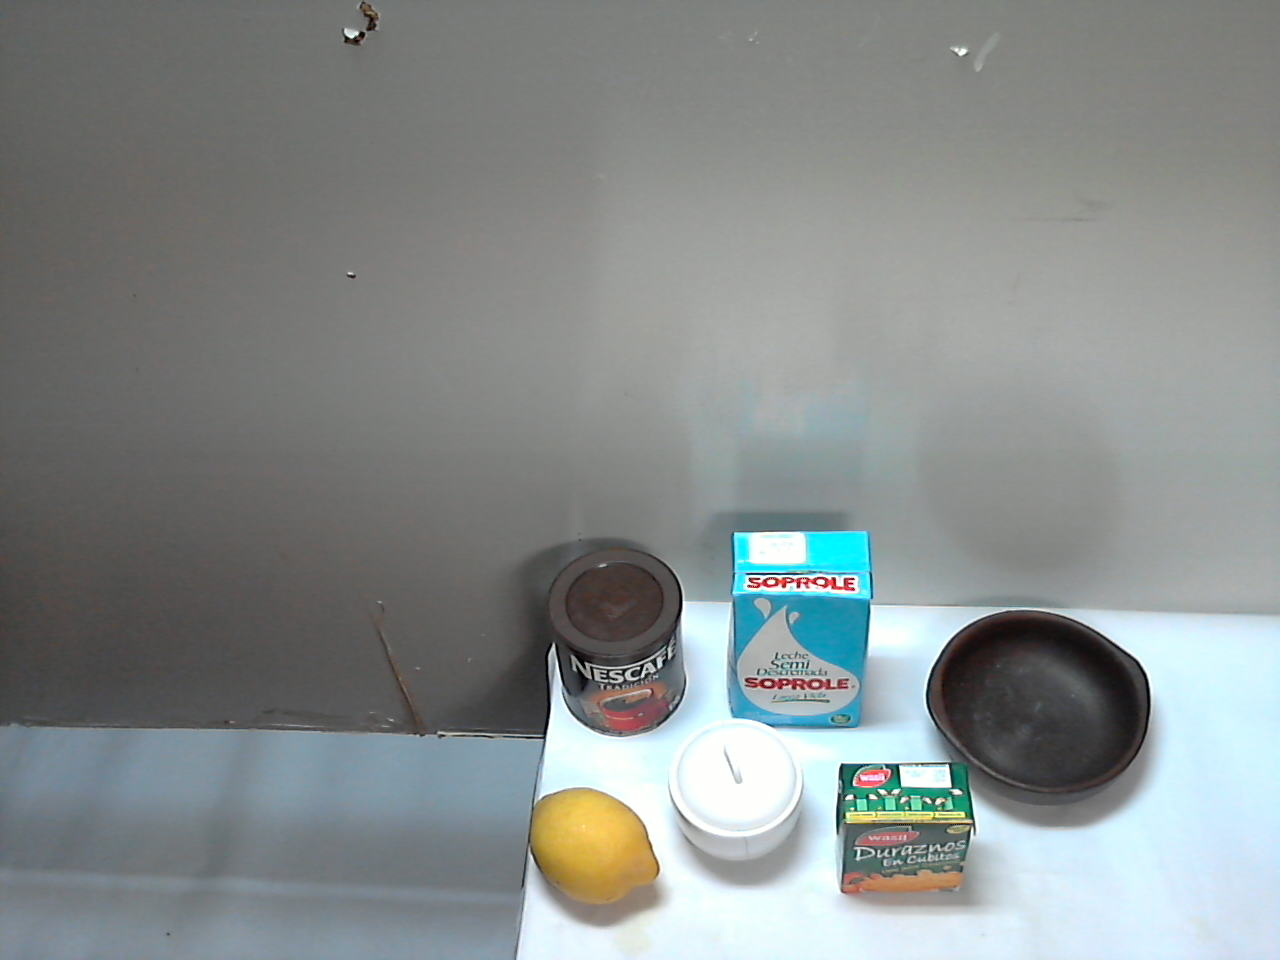colador: (776, 625, 1213, 960)
cubix: (619, 731, 735, 863)
desodorante: (682, 797, 780, 928)
estuche: (436, 738, 657, 944)
lata: (677, 601, 780, 767)
te: (498, 601, 661, 744)
